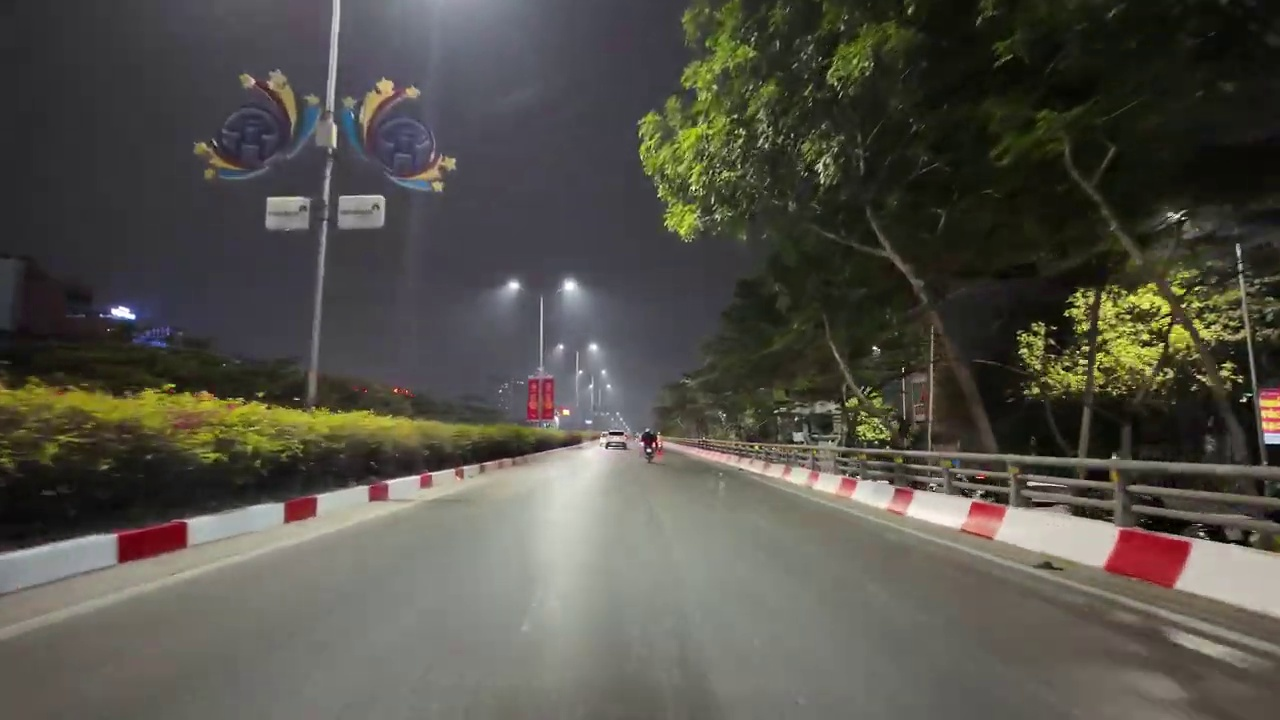acesa: (559, 277, 586, 307), (496, 276, 523, 302)
